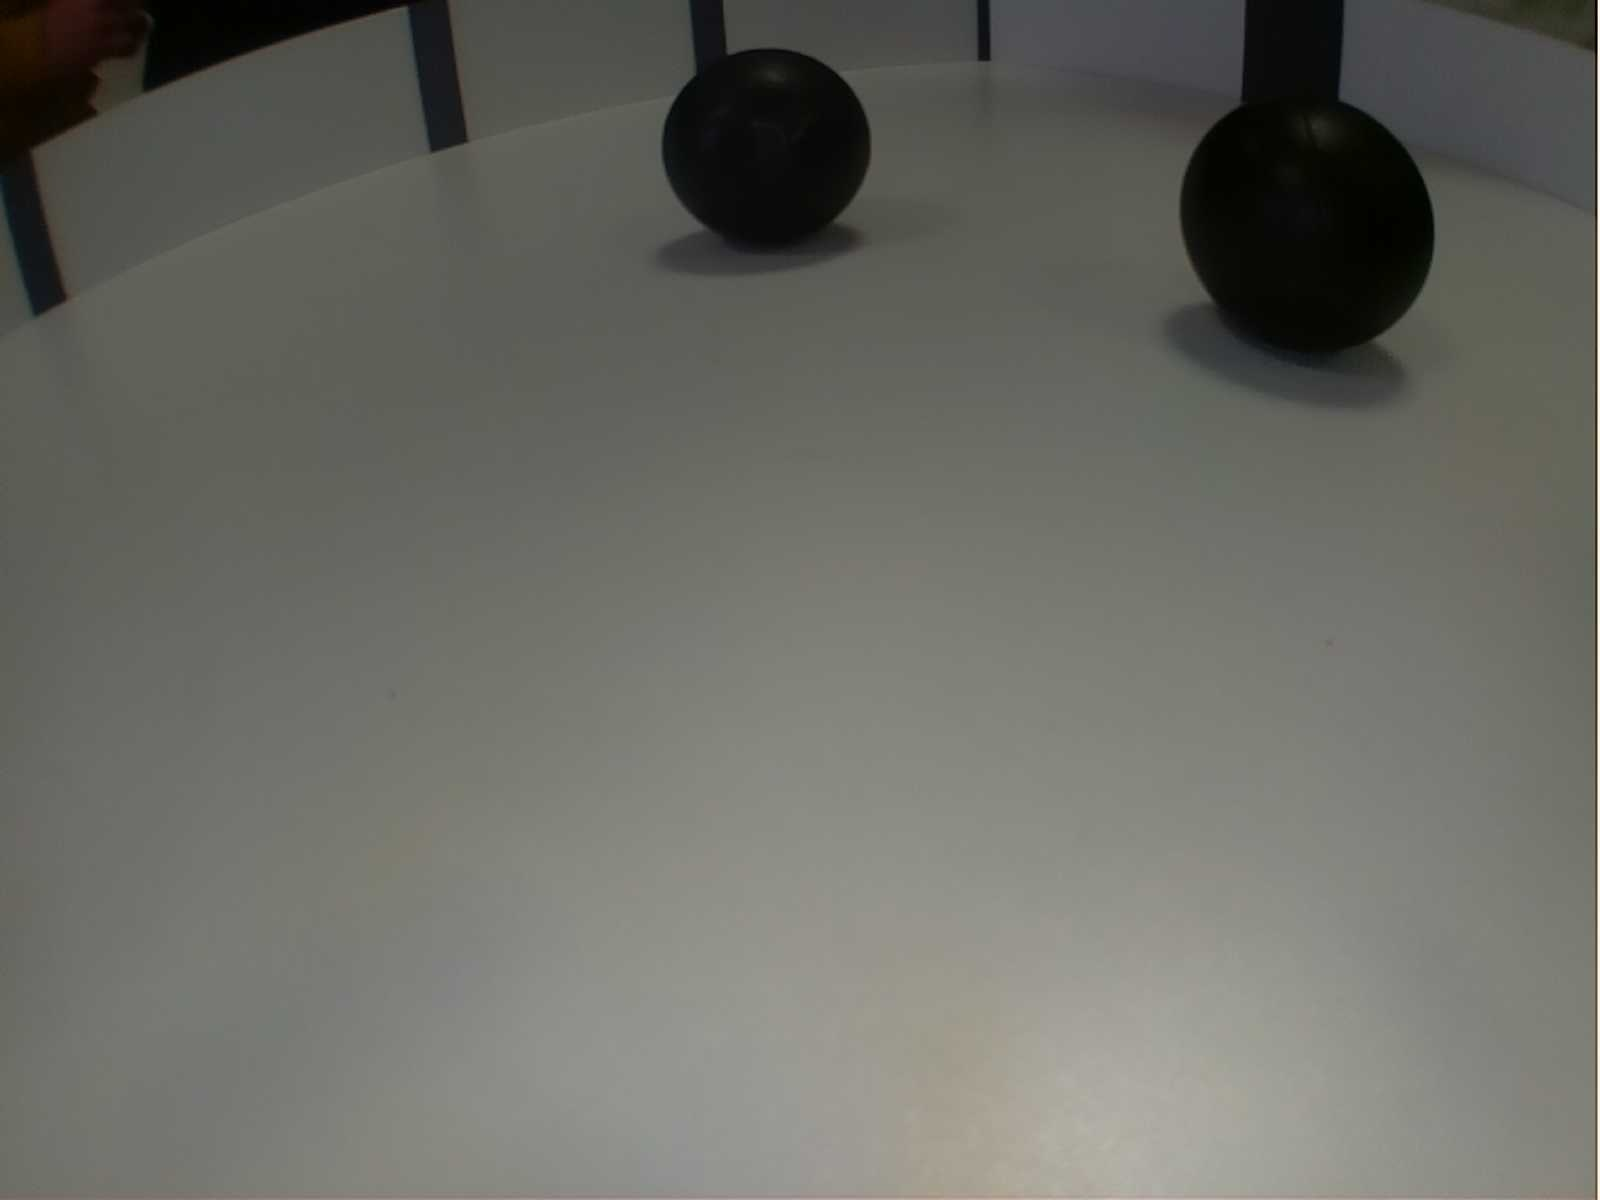nera: (1183, 89, 1437, 372), (658, 44, 869, 255)
